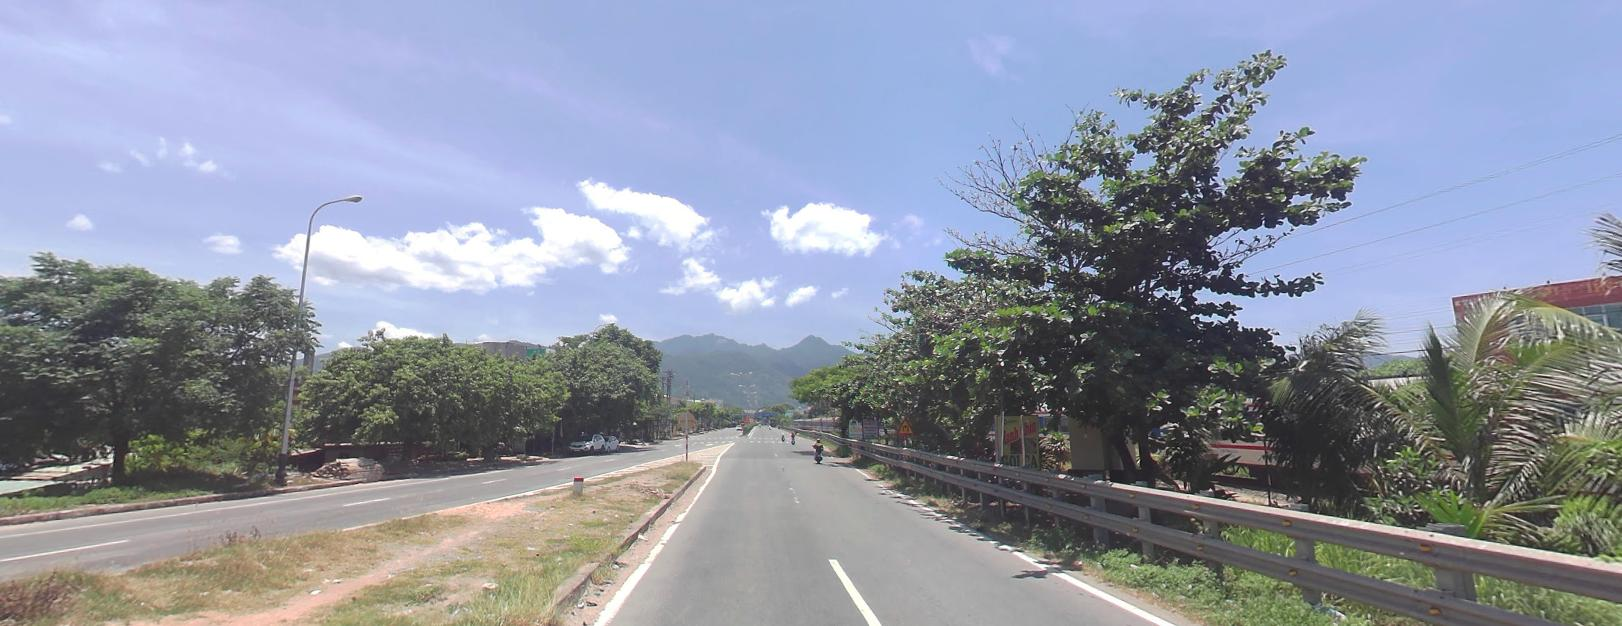Cam nguoc chieu: (740, 420, 745, 425)
Nguy hiem: (896, 415, 913, 433)
